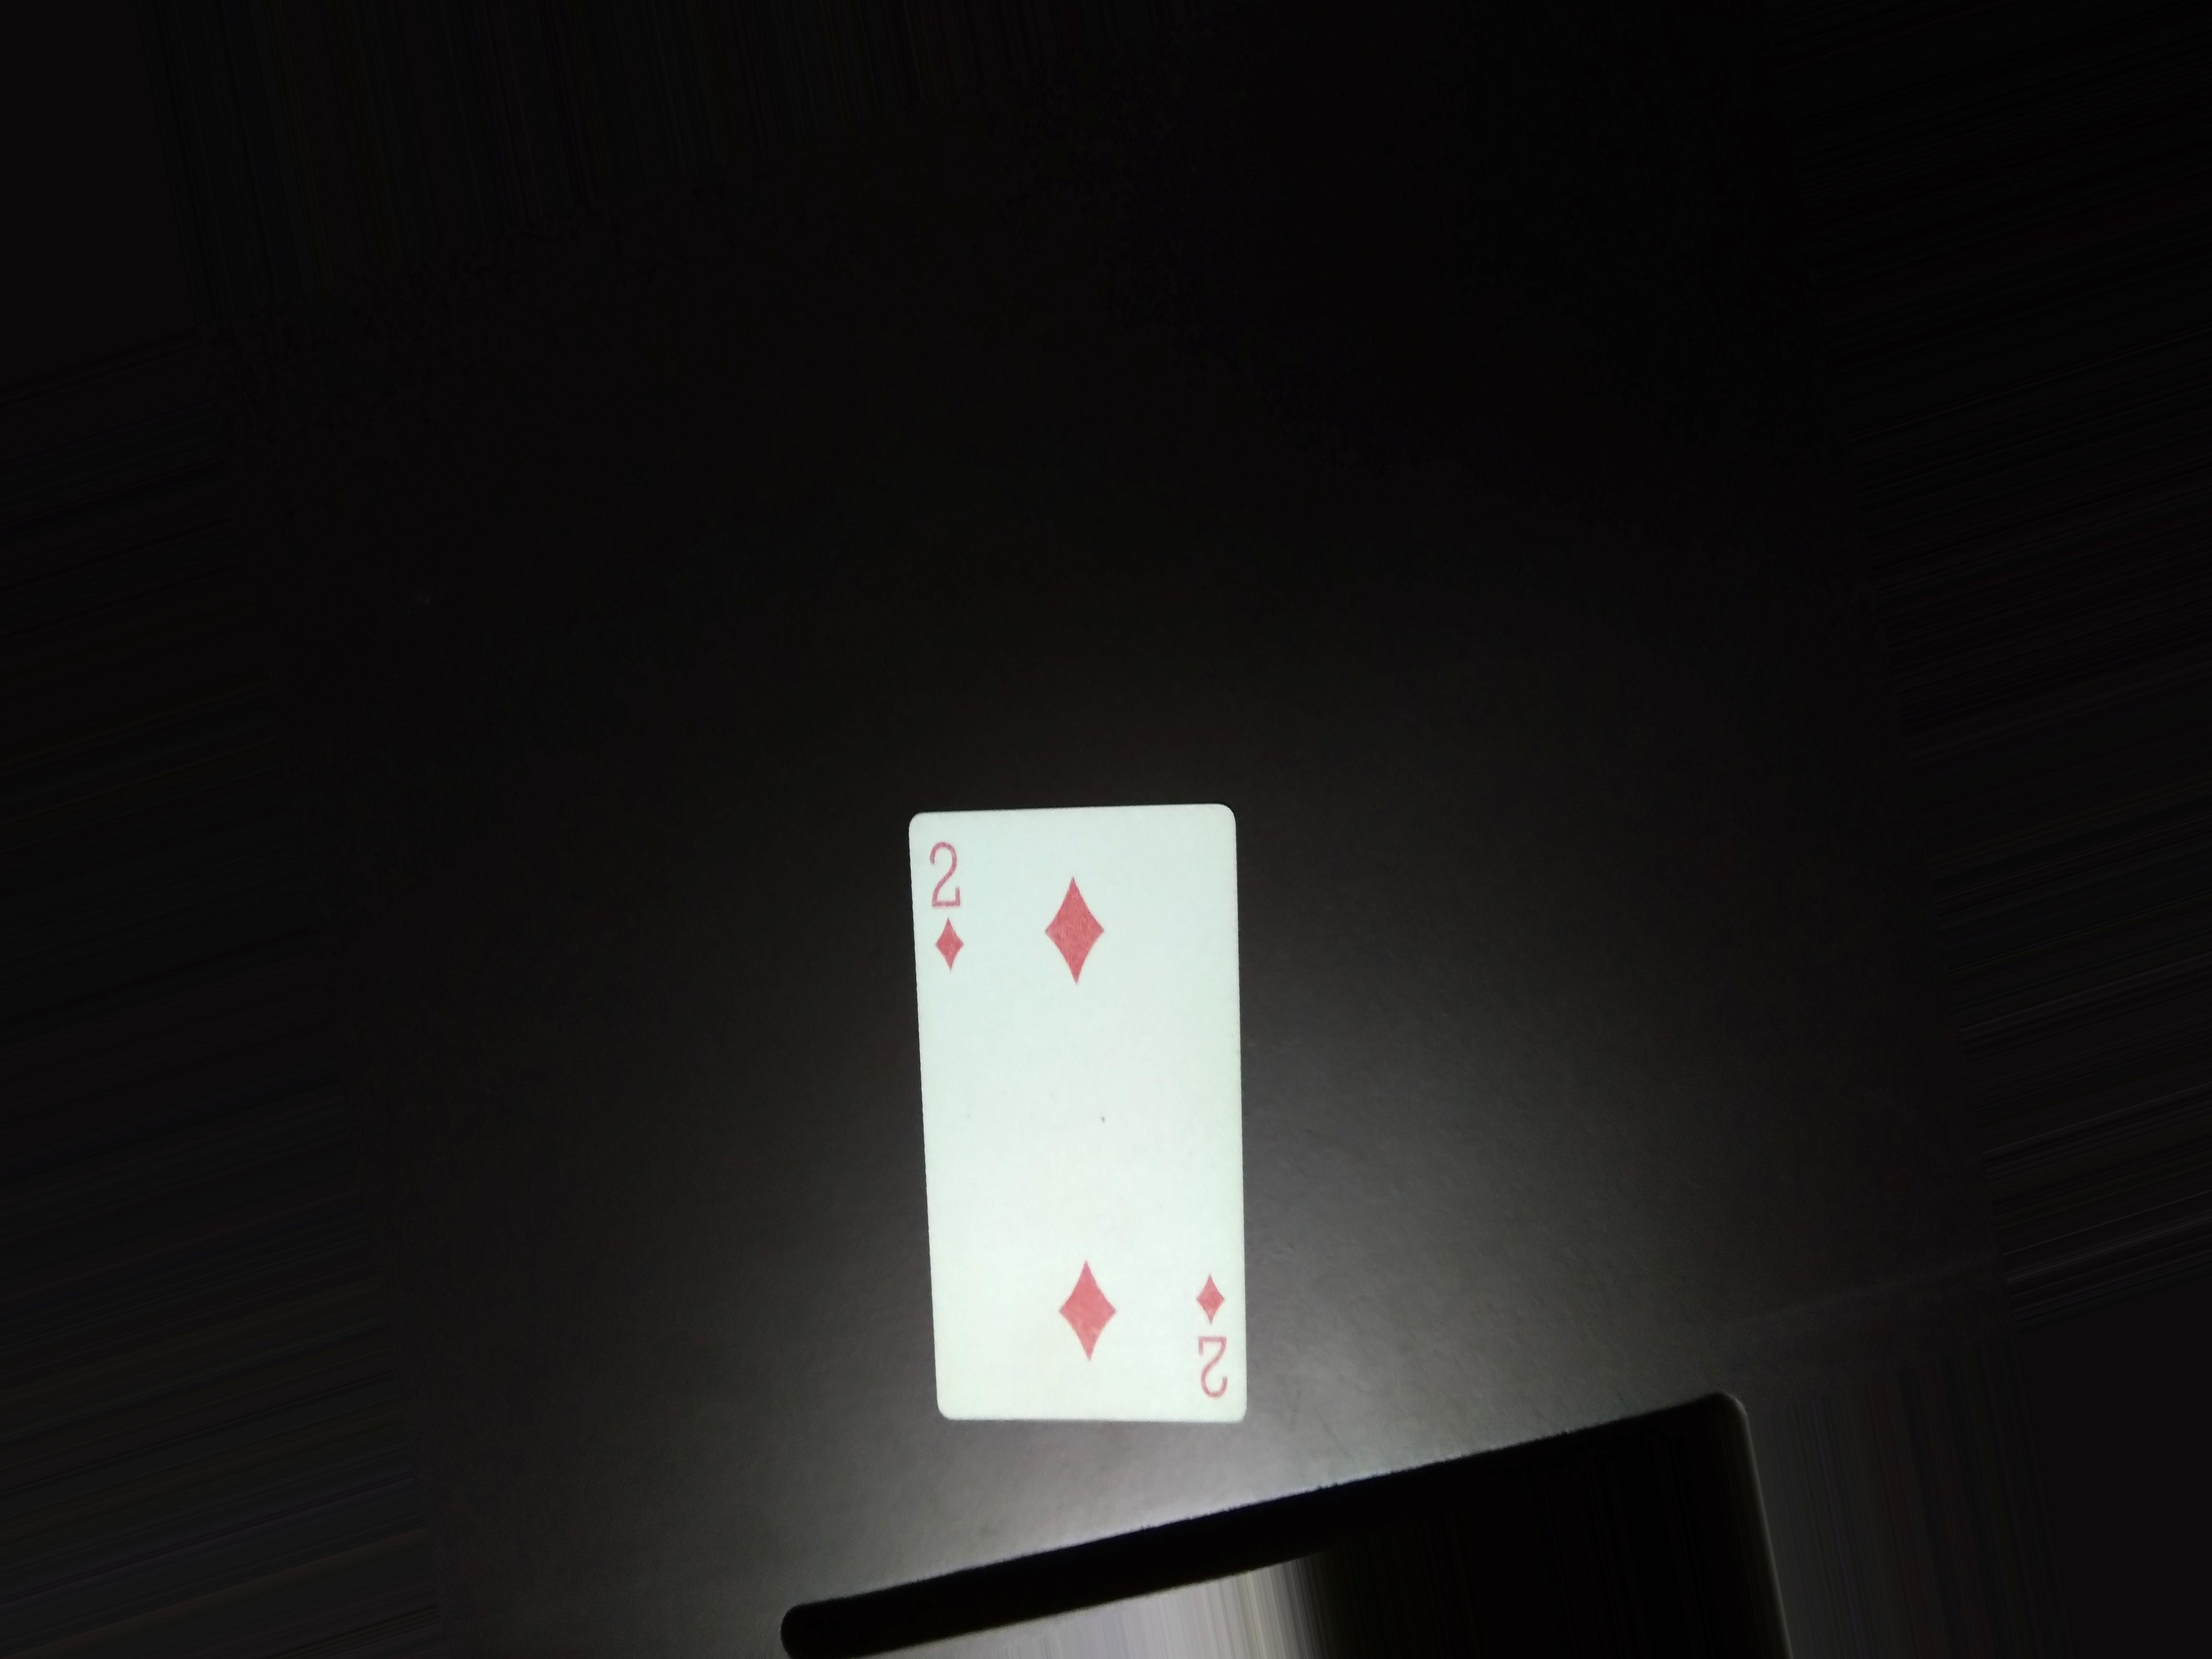2D: (920, 826, 981, 972)
